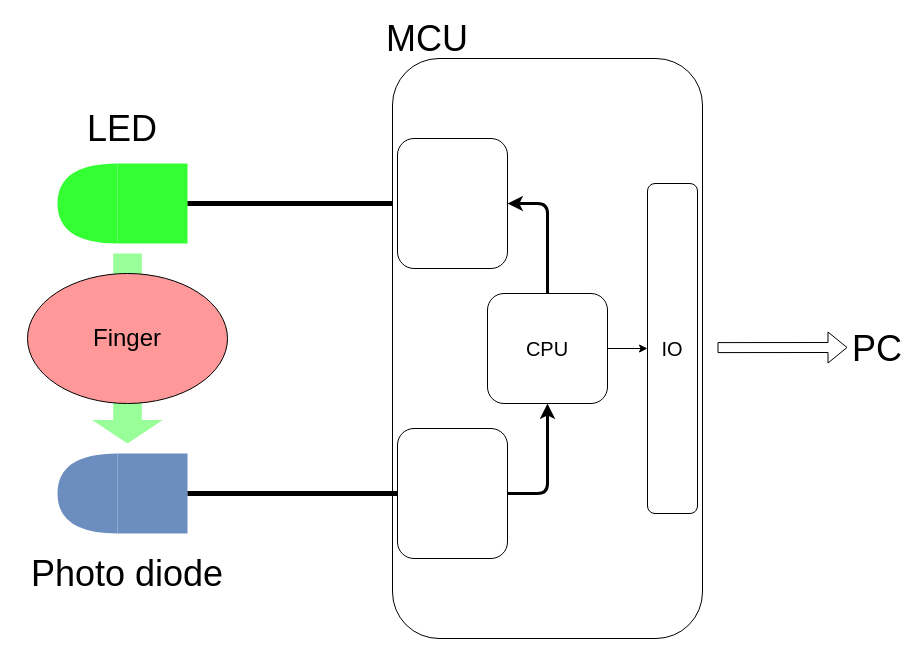
Image size: 924x656. Some labels were removed from this diagram. Each missing label, with the centre of its shape:
"ADC" belongs at (x=452, y=493).
"GPIO" belongs at (x=452, y=203).
